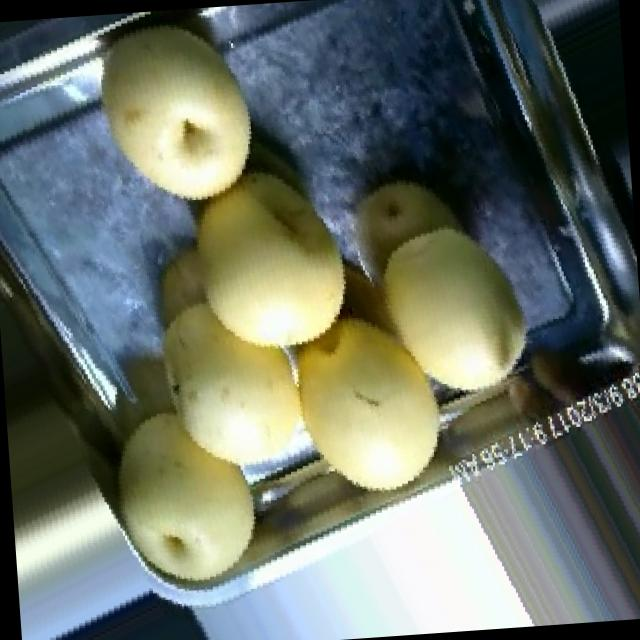Fruit: (112, 135, 384, 388), (346, 194, 564, 444), (65, 378, 288, 618), (103, 268, 328, 504), (62, 2, 285, 238), (266, 278, 480, 521)
